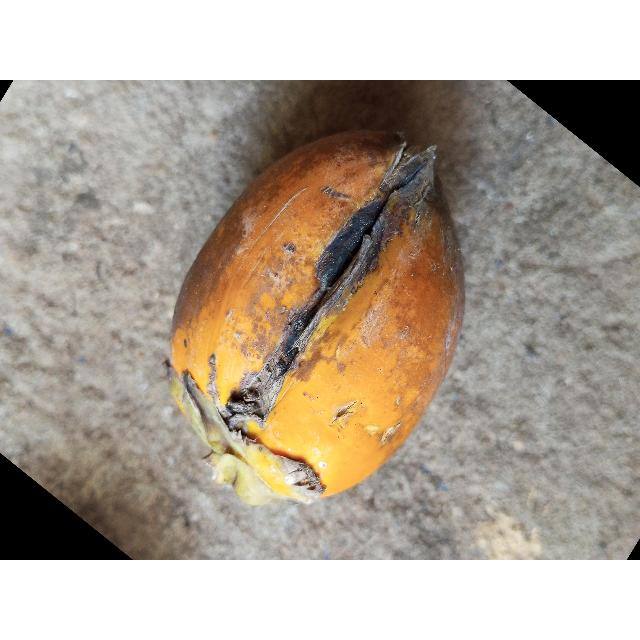damaged: (170, 131, 464, 504)
